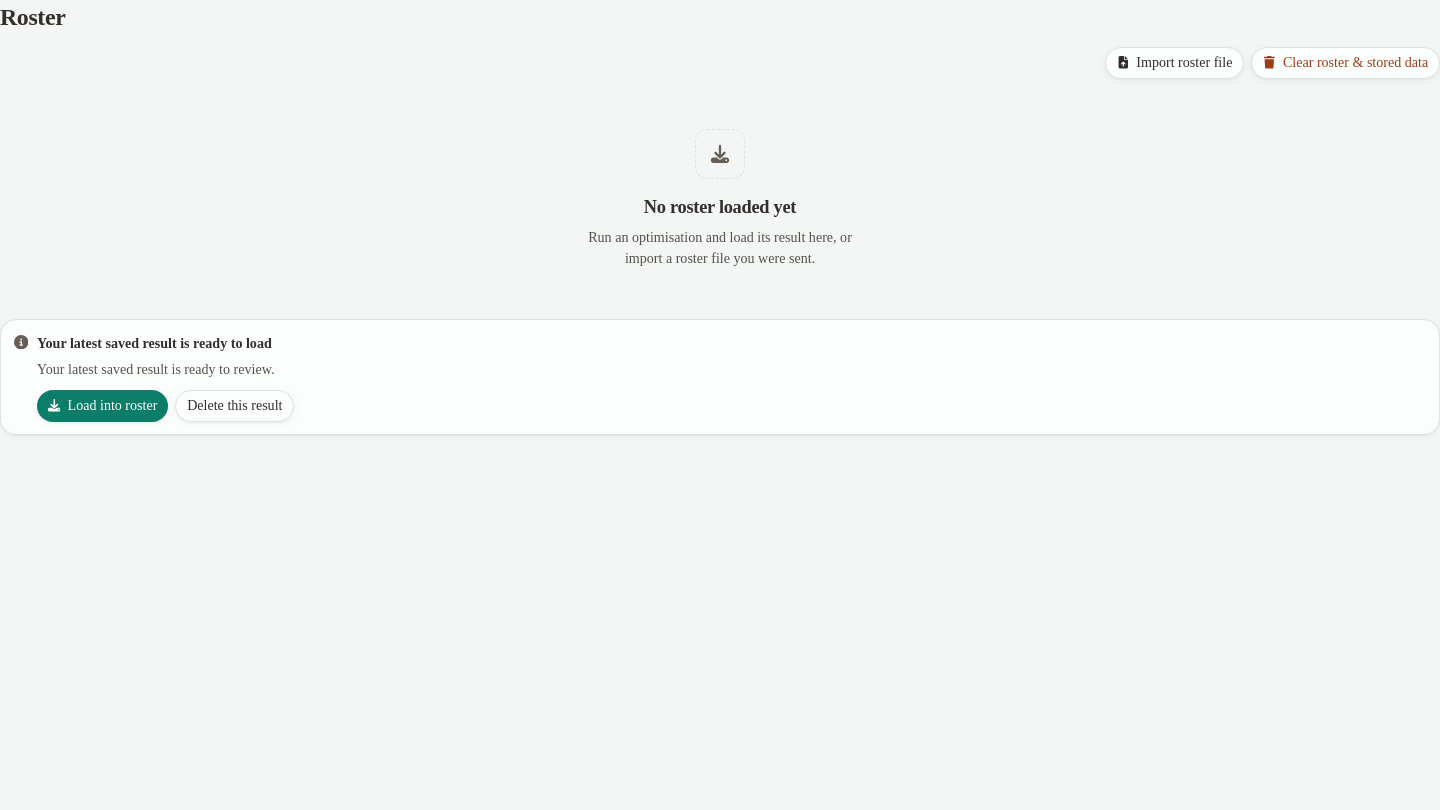
Test: RosterSection — keyed dismissal › surfaces a refused dismissal and keeps the candidate offered
The width and height of the screenshot is (1440, 810).
Click the button with test id "roster-candidate-dismiss": (235, 406) [175,390,294,422]
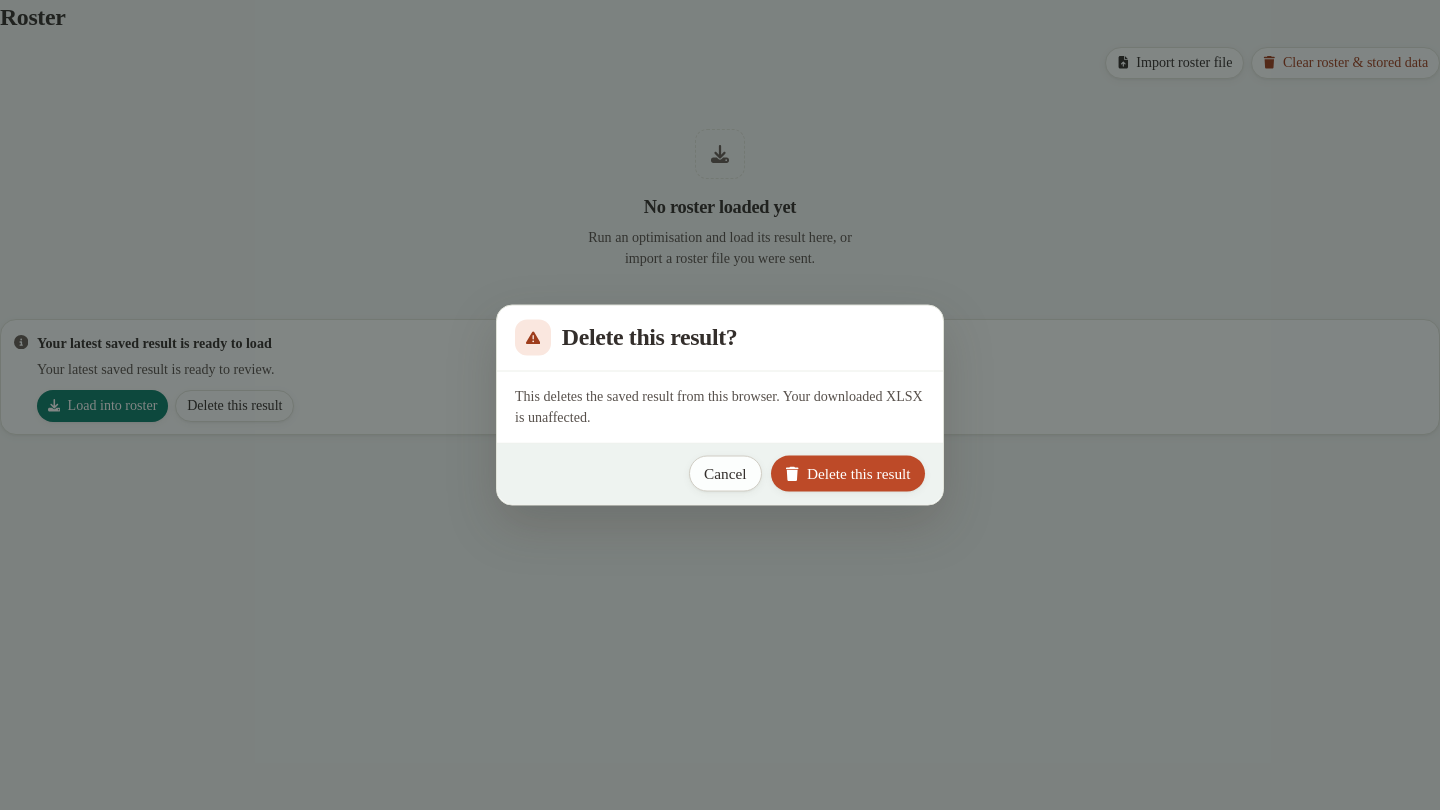
Check: the dialog with test id "confirm-dialog" is shown, box [496,304,944,506]
Click the button with test id "confirm-dialog-confirm": (848, 474) [771,456,925,492]
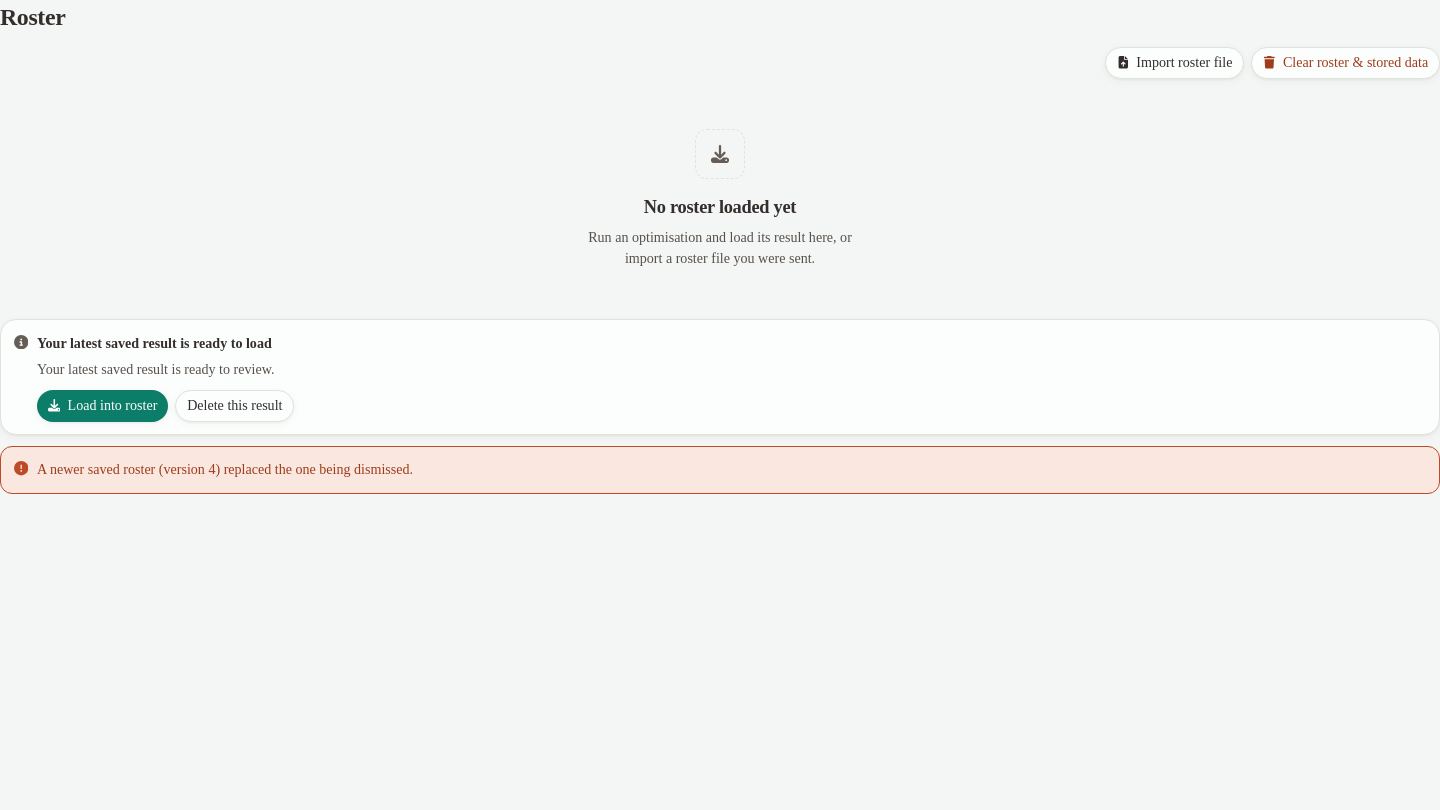
Check: the element with test id "roster-candidate-available" is shown, box [0,319,1439,435]
Check: the message "A newer saved roster (version 4) replaced the one being dismissed." is shown, box [0,446,1439,494]
